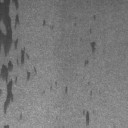red iron: (0, 0, 30, 112), (26, 66, 37, 80), (90, 41, 96, 54), (86, 110, 90, 126), (42, 20, 46, 26), (84, 60, 88, 66), (89, 28, 92, 34), (66, 86, 68, 93), (94, 14, 96, 20), (4, 126, 10, 128)
